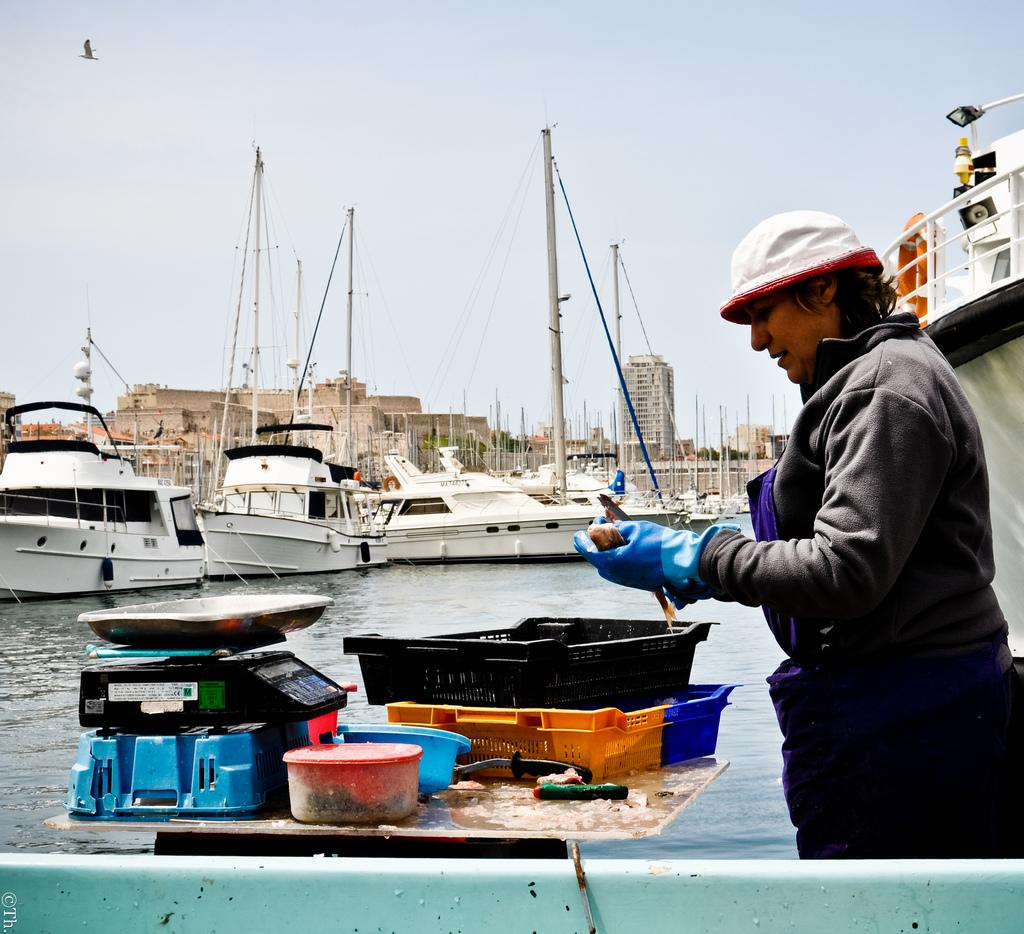Hat: (712, 206, 882, 324)
